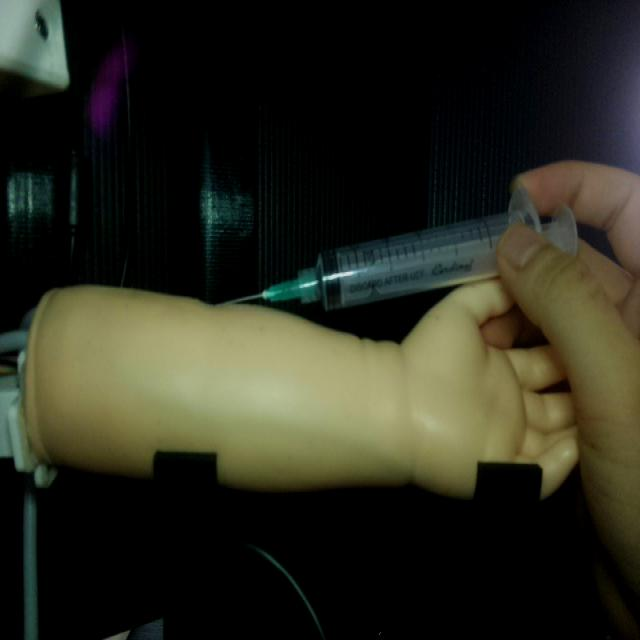Below 15 degrees: (216, 184, 579, 315)
